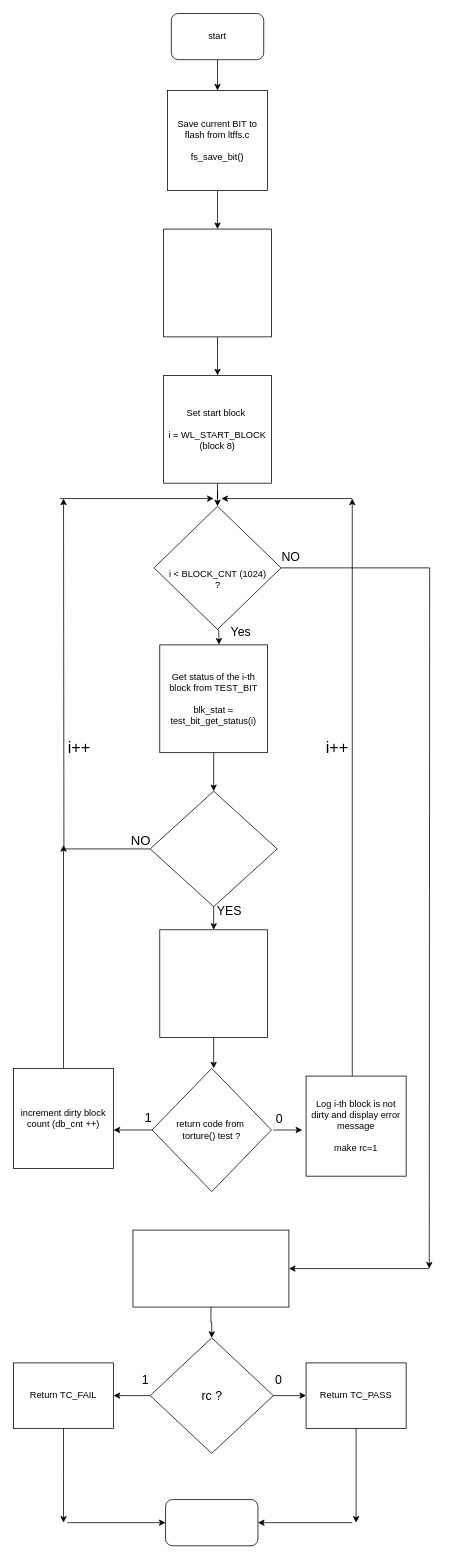
This 450x1559 diagram has some shape labels left out. The shapes that lost their labels are listed below. From the top down, each one's centre as x and y in pixels, then its label:
At (217,282): "Get BIT from flash and load it to TEST_BIT array in test_flash.c get_test_bbt()".
At (213,848): "blk_stat == BLK_DIRTY ?".
At (213,983): "Torture the i-th block bit_db_cnt++ paddr = i * BLOCK_SIZE torture(paddr)".
At (210,1268): "if db_cnt != bit_db_cnt, make rc=1".
At (211,1522): "Stop".
